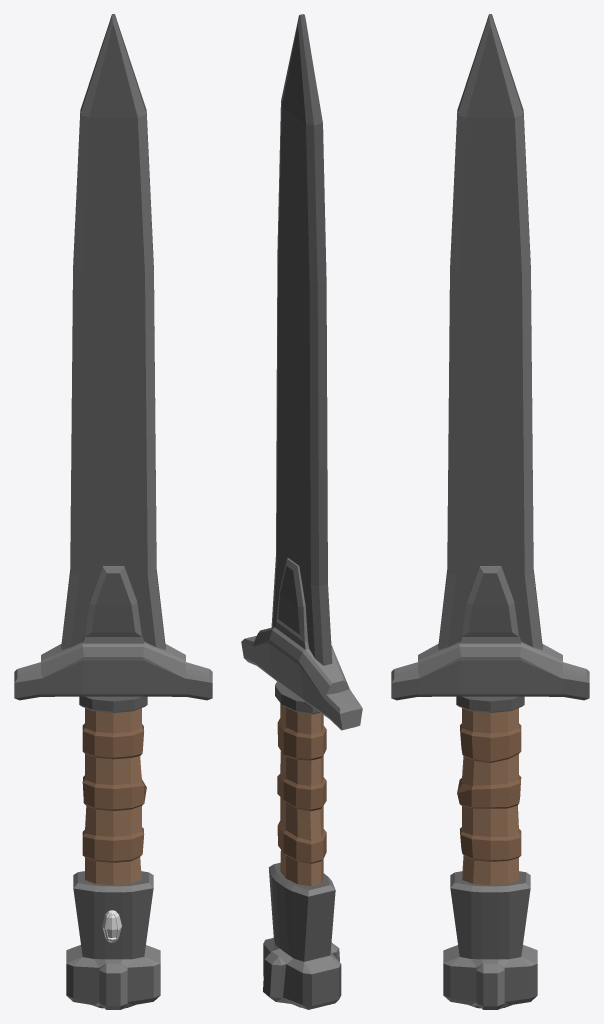
File: Sword_01.fbx
The picture shows the model from 3 angles, left to right: view 1: azimuth 90°, elevation 25°; view 2: azimuth 210°, elevation 25°; view 3: azimuth 270°, elevation 25°; orthographic projection.
Parts seen in each view (by area): view 1: Sword_01; view 2: Sword_01; view 3: Sword_01.
Boxes of the visible parts, x1,y1,x2,y2 form: Sword_01: (14,14,212,1009); Sword_01: (241,14,362,1009); Sword_01: (391,14,589,1009).
Size of the model in its own units: 12.27 by 163 by 29.52.
Materials: 4 (4 with a texture image).
